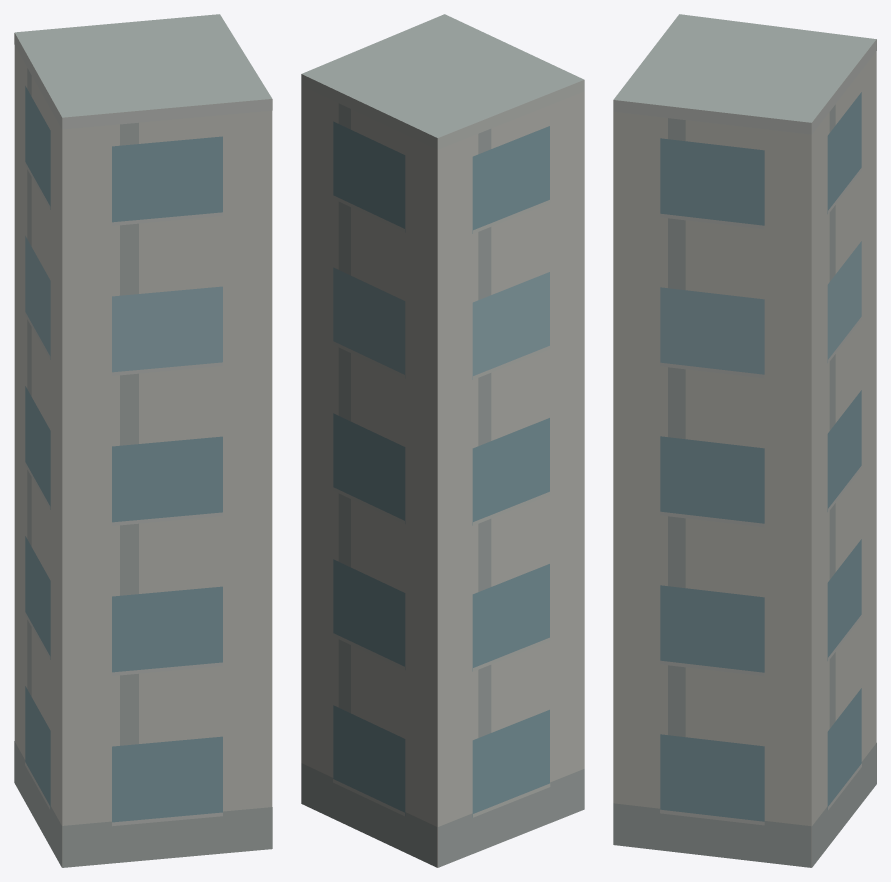
The model's file is survey-upis-32505067.glb.
The picture shows the model from 3 angles, left to right: view 1: azimuth 30°, elevation 25°; view 2: azimuth 150°, elevation 25°; view 3: azimuth 270°, elevation 25°; orthographic projection. The views are drawn at different scales.
Visible parts, largest first — view 1: survey-upis-32505067.tmp; view 2: survey-upis-32505067.tmp; view 3: survey-upis-32505067.tmp.
Part boxes in pixels (left/top/right/bottom): survey-upis-32505067.tmp: left=14, top=14, right=272, bottom=867; survey-upis-32505067.tmp: left=301, top=14, right=584, bottom=867; survey-upis-32505067.tmp: left=613, top=14, right=876, bottom=867.
Bounding box in the file's own units: 4.79 × 15.25 × 4.9.
